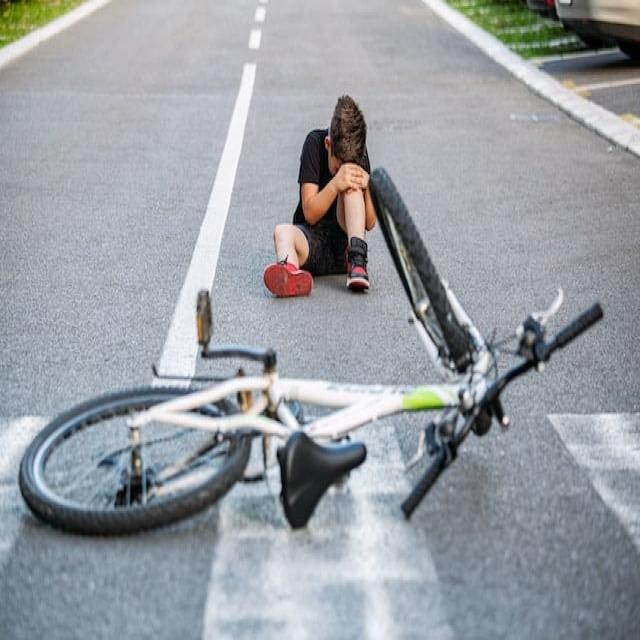INJURED PERSON: (197, 19, 383, 300)
